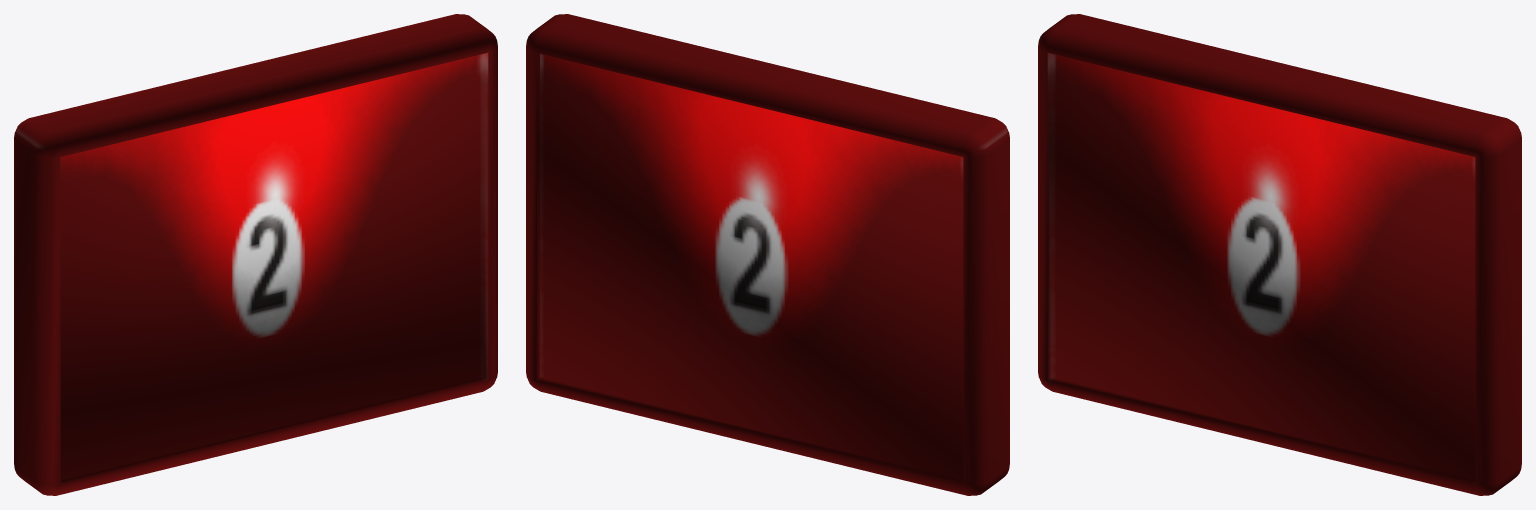
File: list.ico.obj
3 views of the same model, side by side, from view 1: azimuth 30°, elevation 25°; view 2: azimuth 150°, elevation 25°; view 3: azimuth 330°, elevation 25° (orthographic).
Size of the model in its own units: 5 by 3.76 by 0.6973.
